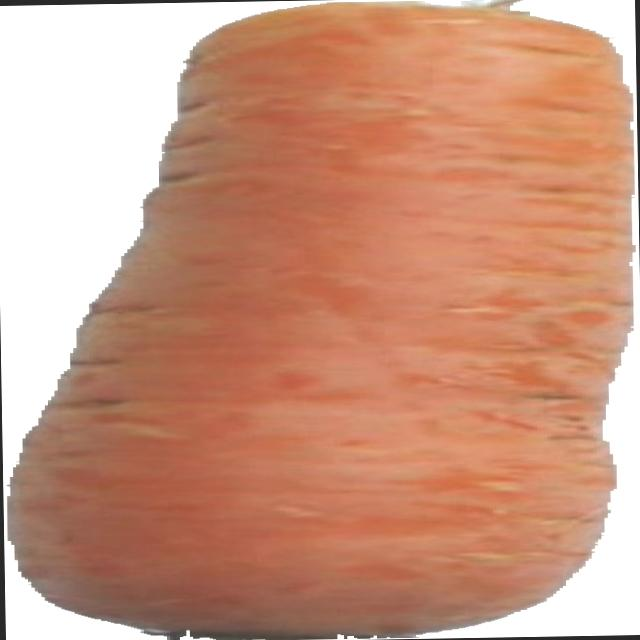carrot: (12, 2, 628, 639)
